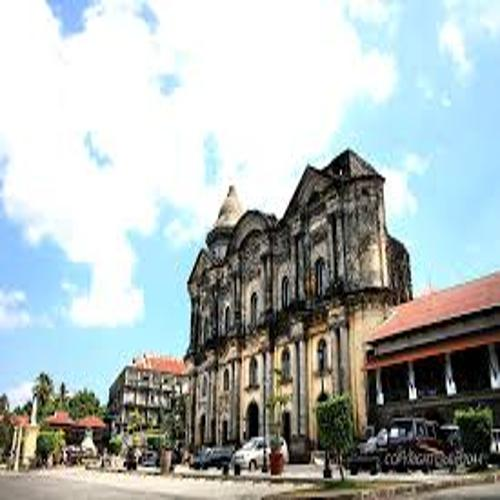Taal Basilica Church: (178, 141, 414, 452)
